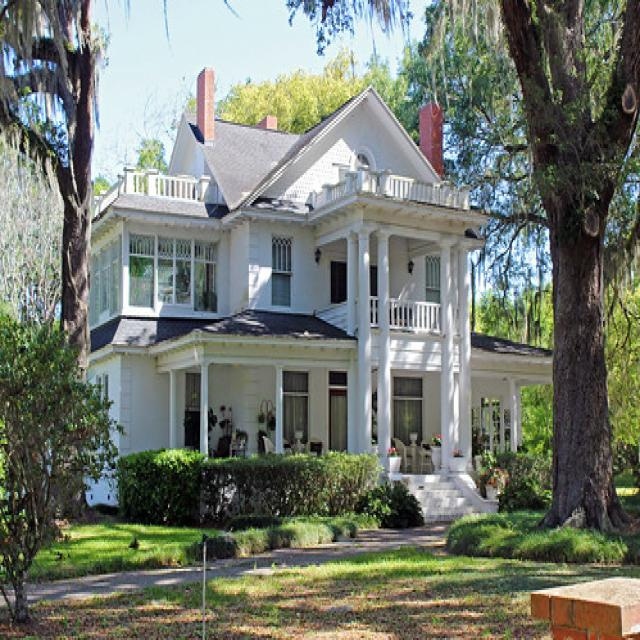building: (80, 80, 556, 522)
